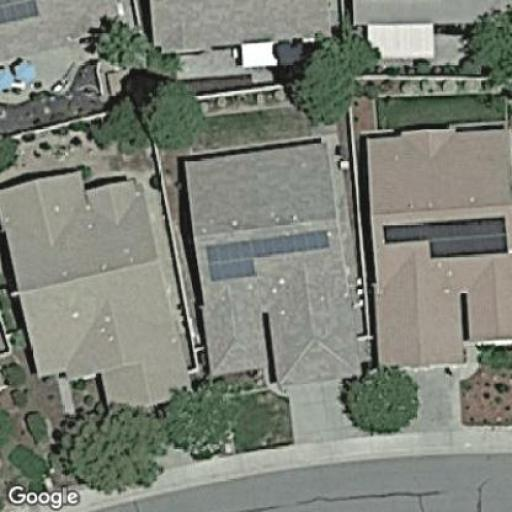solar-panel: (202, 229, 333, 283), (380, 214, 509, 262), (0, 0, 48, 26)
